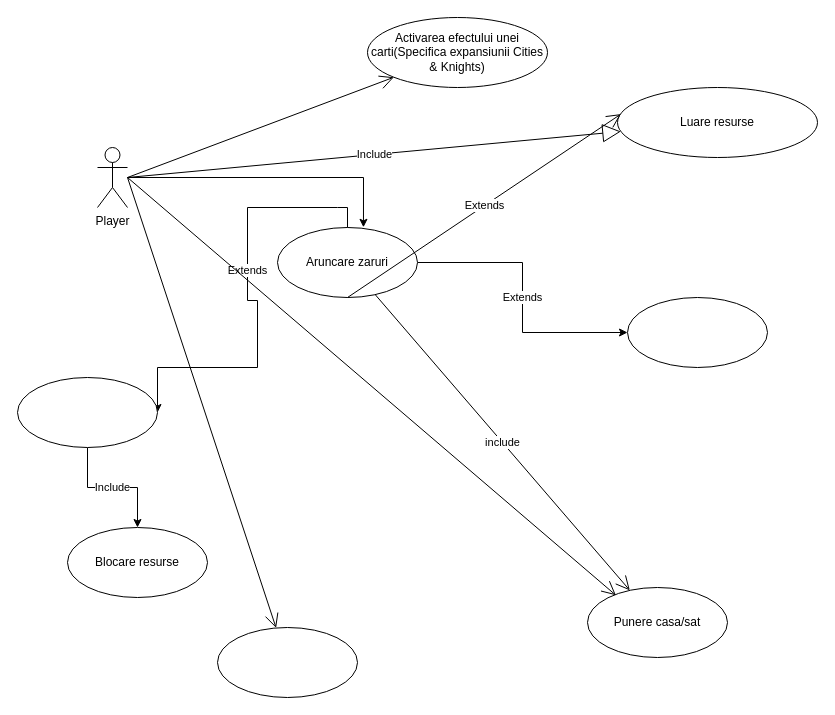
This 835x715 diagram has some shape labels left out. The centre of each missing label's shape, as x and y in pixels:
Hotul intra in actiune: (87,412)
Stabilirea ordinei a jucatorilor: (697,332)
Upgradare oras(Specific expansiunii Cities and Knights): (287,662)
